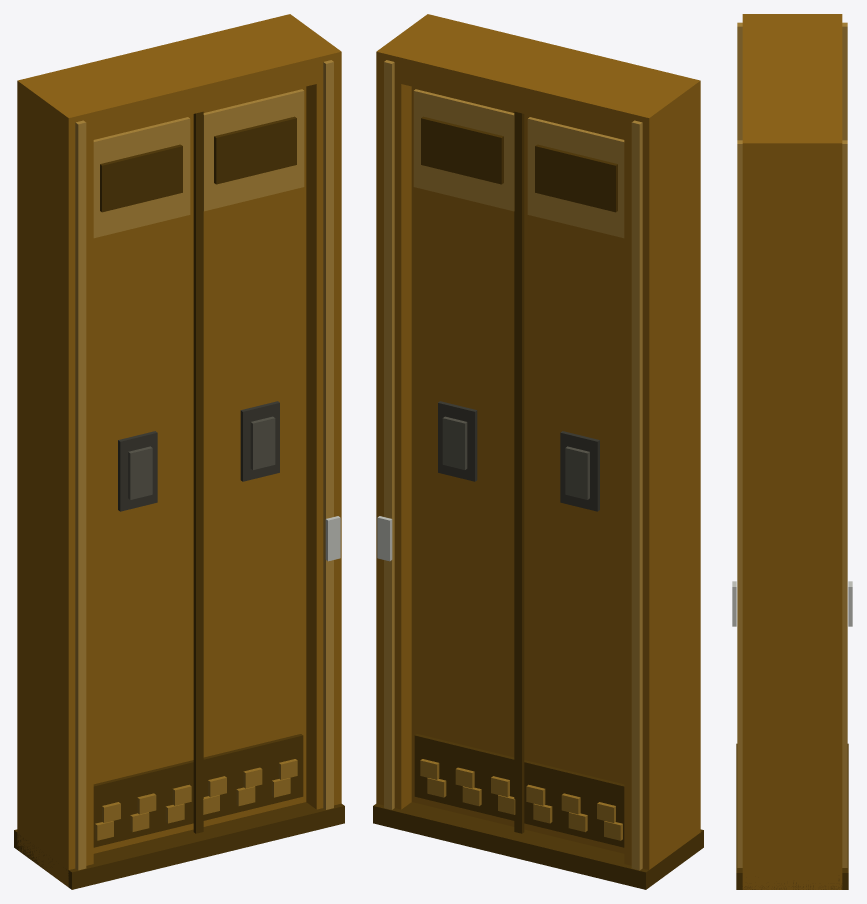
The model's file is CMU3DSingleEngiDoor.glb.
3 renders of one model, left to right at view 1: azimuth 30°, elevation 25°; view 2: azimuth 150°, elevation 25°; view 3: azimuth 270°, elevation 25°, orthographic. The views are drawn at different scales.
Parts seen in each view (by area): view 1: closed leaf body, door jamb (×2), header, jamb raised edge (×2), upper inset band (×2), lower hazard backing, threshold, upper dark inset (×2), leaf meeting seam, round lock plate (×2), lock center (×2), side access reader; view 2: closed leaf body, door jamb (×2), header, jamb raised edge (×2), upper inset band back (×2), lower hazard backing back, threshold, upper dark inset back (×2), leaf meeting seam back, round lock plate back (×2), lock center back (×2), side access reader back; view 3: door jamb (×2), header, jamb raised edge (×4), threshold.
Part boxes in pixels (bbox=[...]): closed leaf body: bbox=[93, 86, 306, 853]; door jamb (×2): bbox=[17, 14, 341, 887]; header: bbox=[17, 14, 341, 144]; jamb raised edge (×2): bbox=[75, 60, 333, 870]; upper inset band (×2): bbox=[93, 89, 304, 238]; lower hazard backing: bbox=[93, 734, 303, 847]; threshold: bbox=[14, 802, 344, 889]; upper dark inset (×2): bbox=[100, 116, 296, 212]; leaf meeting seam: bbox=[193, 111, 203, 833]; round lock plate (×2): bbox=[118, 401, 279, 511]; lock center (×2): bbox=[128, 416, 275, 499]; side access reader: bbox=[325, 516, 340, 561]; closed leaf body: bbox=[411, 86, 624, 853]; door jamb (×2): bbox=[376, 14, 700, 869]; header: bbox=[376, 14, 700, 144]; jamb raised edge (×2): bbox=[384, 60, 642, 870]; upper inset band back (×2): bbox=[413, 89, 624, 238]; lower hazard backing back: bbox=[414, 734, 624, 847]; threshold: bbox=[373, 802, 703, 889]; upper dark inset back (×2): bbox=[421, 116, 617, 212]; leaf meeting seam back: bbox=[514, 111, 524, 833]; round lock plate back (×2): bbox=[438, 401, 599, 511]; lock center back (×2): bbox=[442, 416, 589, 499]; side access reader back: bbox=[377, 516, 392, 561]; door jamb (×2): bbox=[742, 14, 842, 889]; header: bbox=[742, 14, 842, 168]; jamb raised edge (×4): bbox=[737, 22, 847, 867]; threshold: bbox=[736, 743, 848, 889].
Size of the model in its own units: 0.98 by 2.64 by 0.386.
